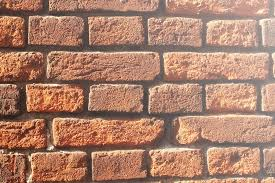brick: (48, 52, 158, 80), (163, 51, 269, 80), (53, 119, 165, 145), (175, 117, 274, 143), (89, 15, 146, 47), (31, 153, 89, 182), (30, 17, 86, 46), (25, 85, 85, 112), (88, 85, 144, 113), (207, 147, 263, 175), (148, 19, 206, 46), (167, 1, 271, 16), (207, 19, 259, 48), (93, 152, 145, 180), (150, 149, 202, 177), (205, 86, 257, 112), (150, 86, 202, 111), (1, 53, 45, 82), (1, 120, 48, 147), (51, 1, 161, 12), (1, 16, 28, 48), (1, 154, 25, 182), (1, 83, 21, 116), (2, 1, 44, 11), (261, 20, 275, 49), (263, 86, 275, 111)
